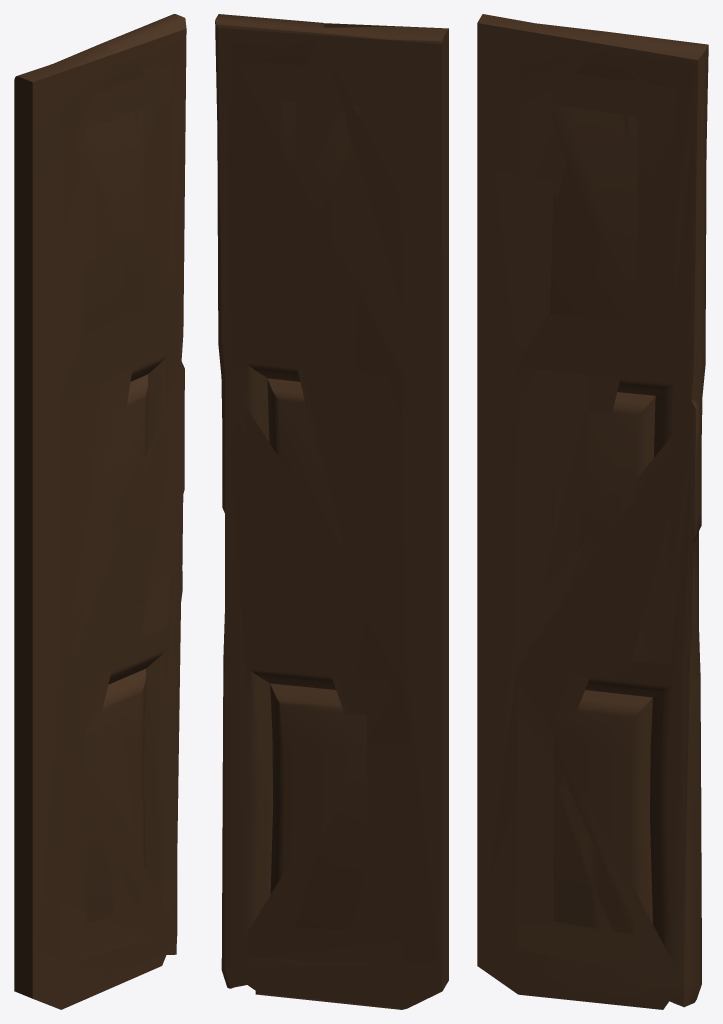
The model's file is Door_LeafLeft.obj.
3 renders of one model, left to right at view 1: azimuth 30°, elevation 25°; view 2: azimuth 150°, elevation 25°; view 3: azimuth 330°, elevation 25°, orthographic. The views are drawn at different scales.
Size of the model in its own units: 0.4385 by 2.04 by 0.1684.
